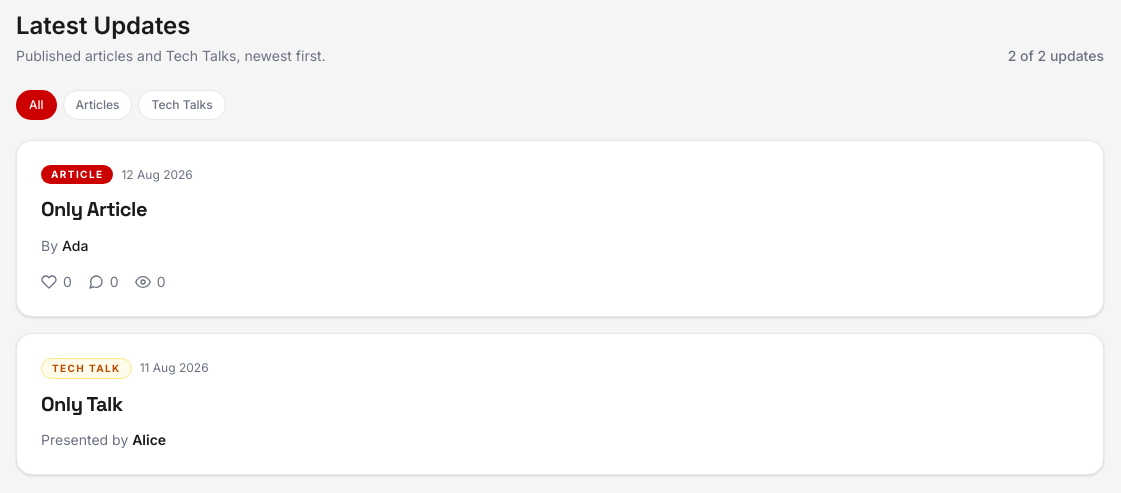
Test: HomepageFeed › filters the feed to articles only
The image size is (1121, 493).
Check: the link with test id "article-card-a1" is shown, box [41, 165, 202, 290]
Click the button "Articles": x=98, y=105 [63, 90, 132, 120]
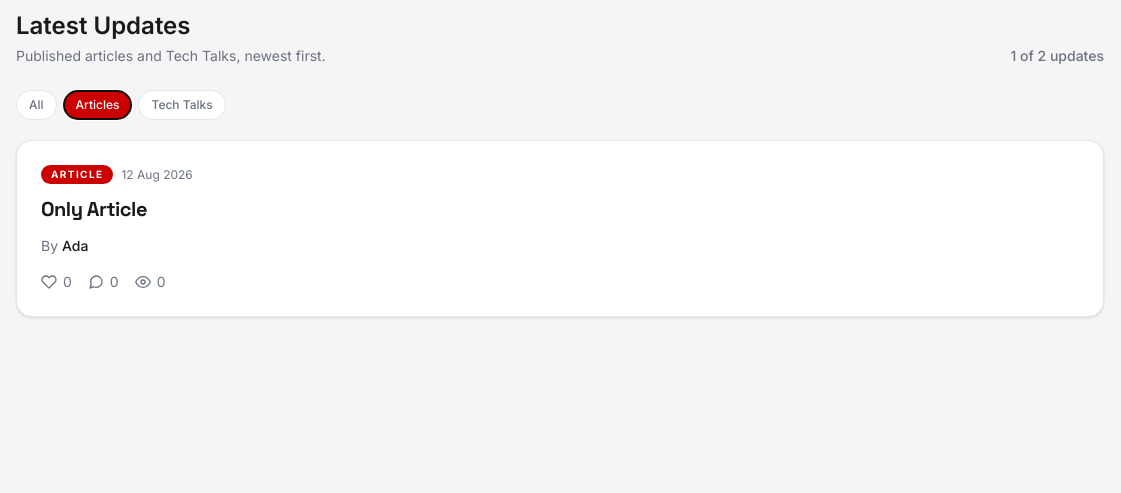
Check: the link with test id "article-card-a1" is shown, box [41, 165, 202, 290]
Check: the link with test id "techtalk-card-t1" is gone
